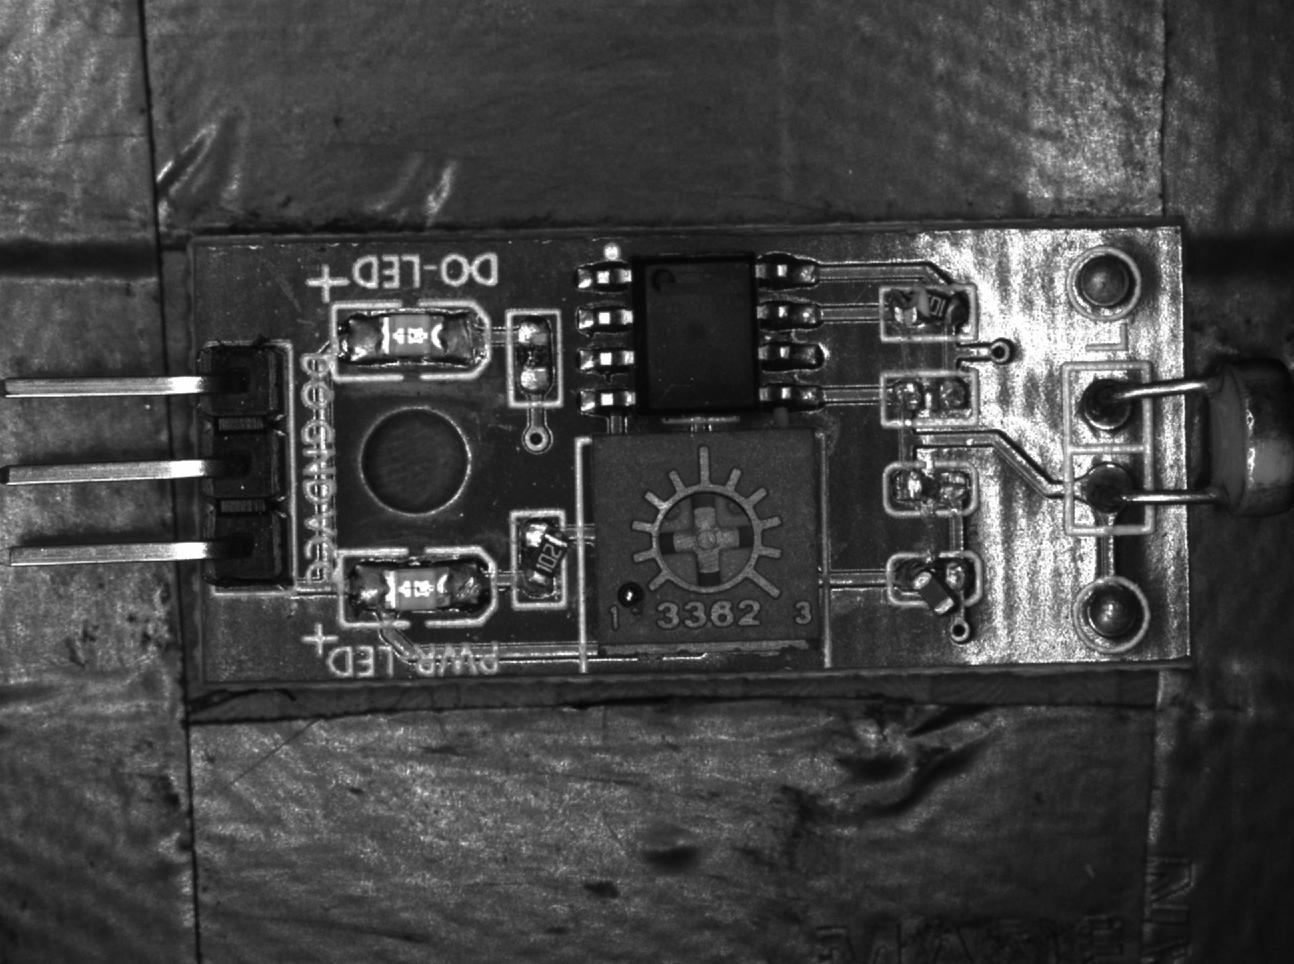bridge: (507, 309, 563, 407), (881, 375, 977, 429), (886, 457, 975, 514)
lifted: (876, 284, 978, 345), (887, 555, 980, 616), (513, 514, 571, 611)
